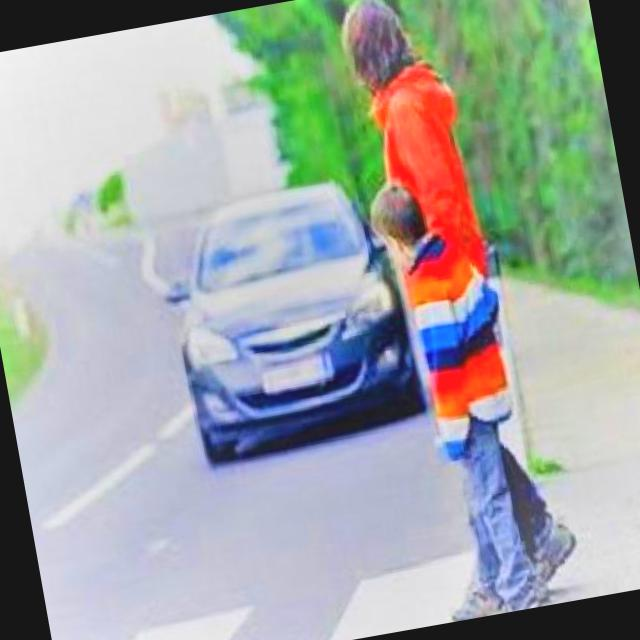Person: (337, 0, 588, 620), (364, 164, 555, 622)
